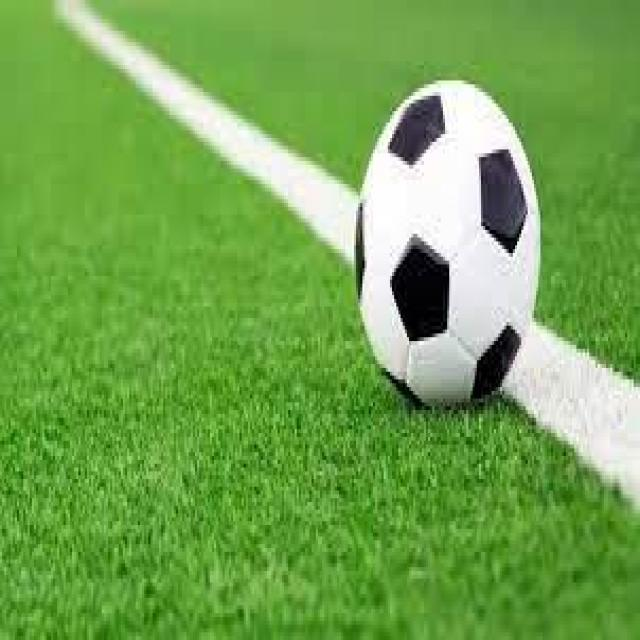Soccer Ball: (356, 76, 545, 422)
